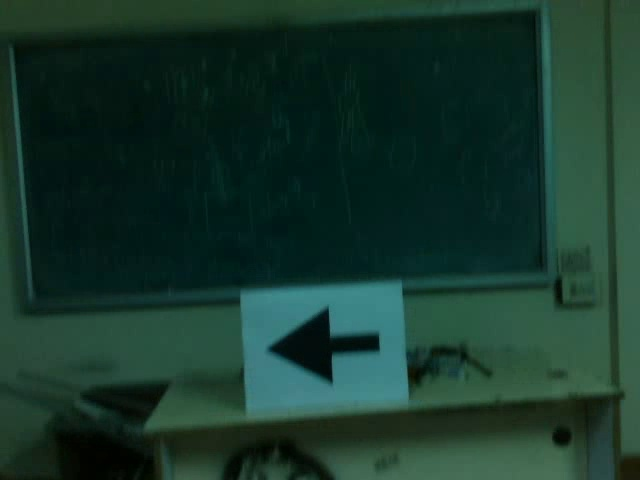Left: (261, 303, 383, 386)
